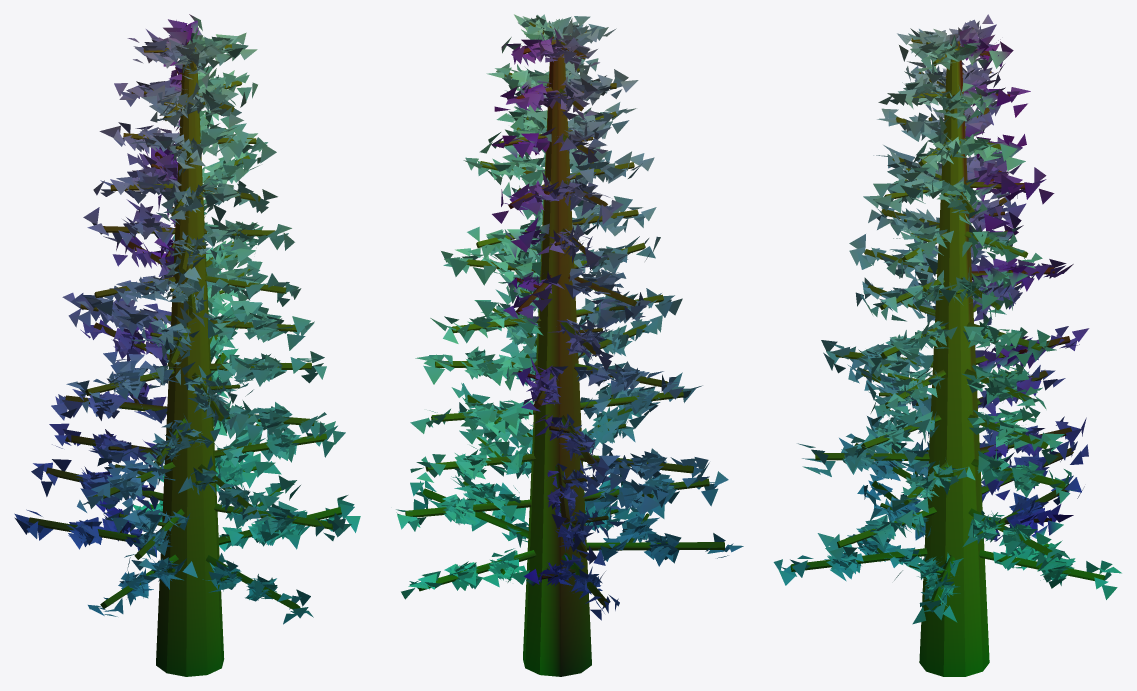
File: ecological_conifer_mature_01.glb
3 renders of one model, left to right at view 1: azimuth 30°, elevation 25°; view 2: azimuth 150°, elevation 25°; view 3: azimuth 270°, elevation 25°, orthographic.
Parts seen in each view (by area): view 1: ecological_conifer_mature_01; view 2: ecological_conifer_mature_01; view 3: ecological_conifer_mature_01.
Part boxes in pixels (x1,y1,x2,y2): ecological_conifer_mature_01: (14,14,360,676); ecological_conifer_mature_01: (396,14,743,676); ecological_conifer_mature_01: (773,14,1121,676).
Size of the model in its own units: 17.55 by 35.27 by 17.65.
